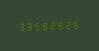eight: (41, 20, 48, 31)
five: (33, 20, 40, 31)
six: (57, 19, 64, 30), (73, 19, 80, 29)
three: (25, 20, 32, 31), (17, 21, 24, 31)
two: (65, 19, 72, 30), (49, 20, 56, 30)
